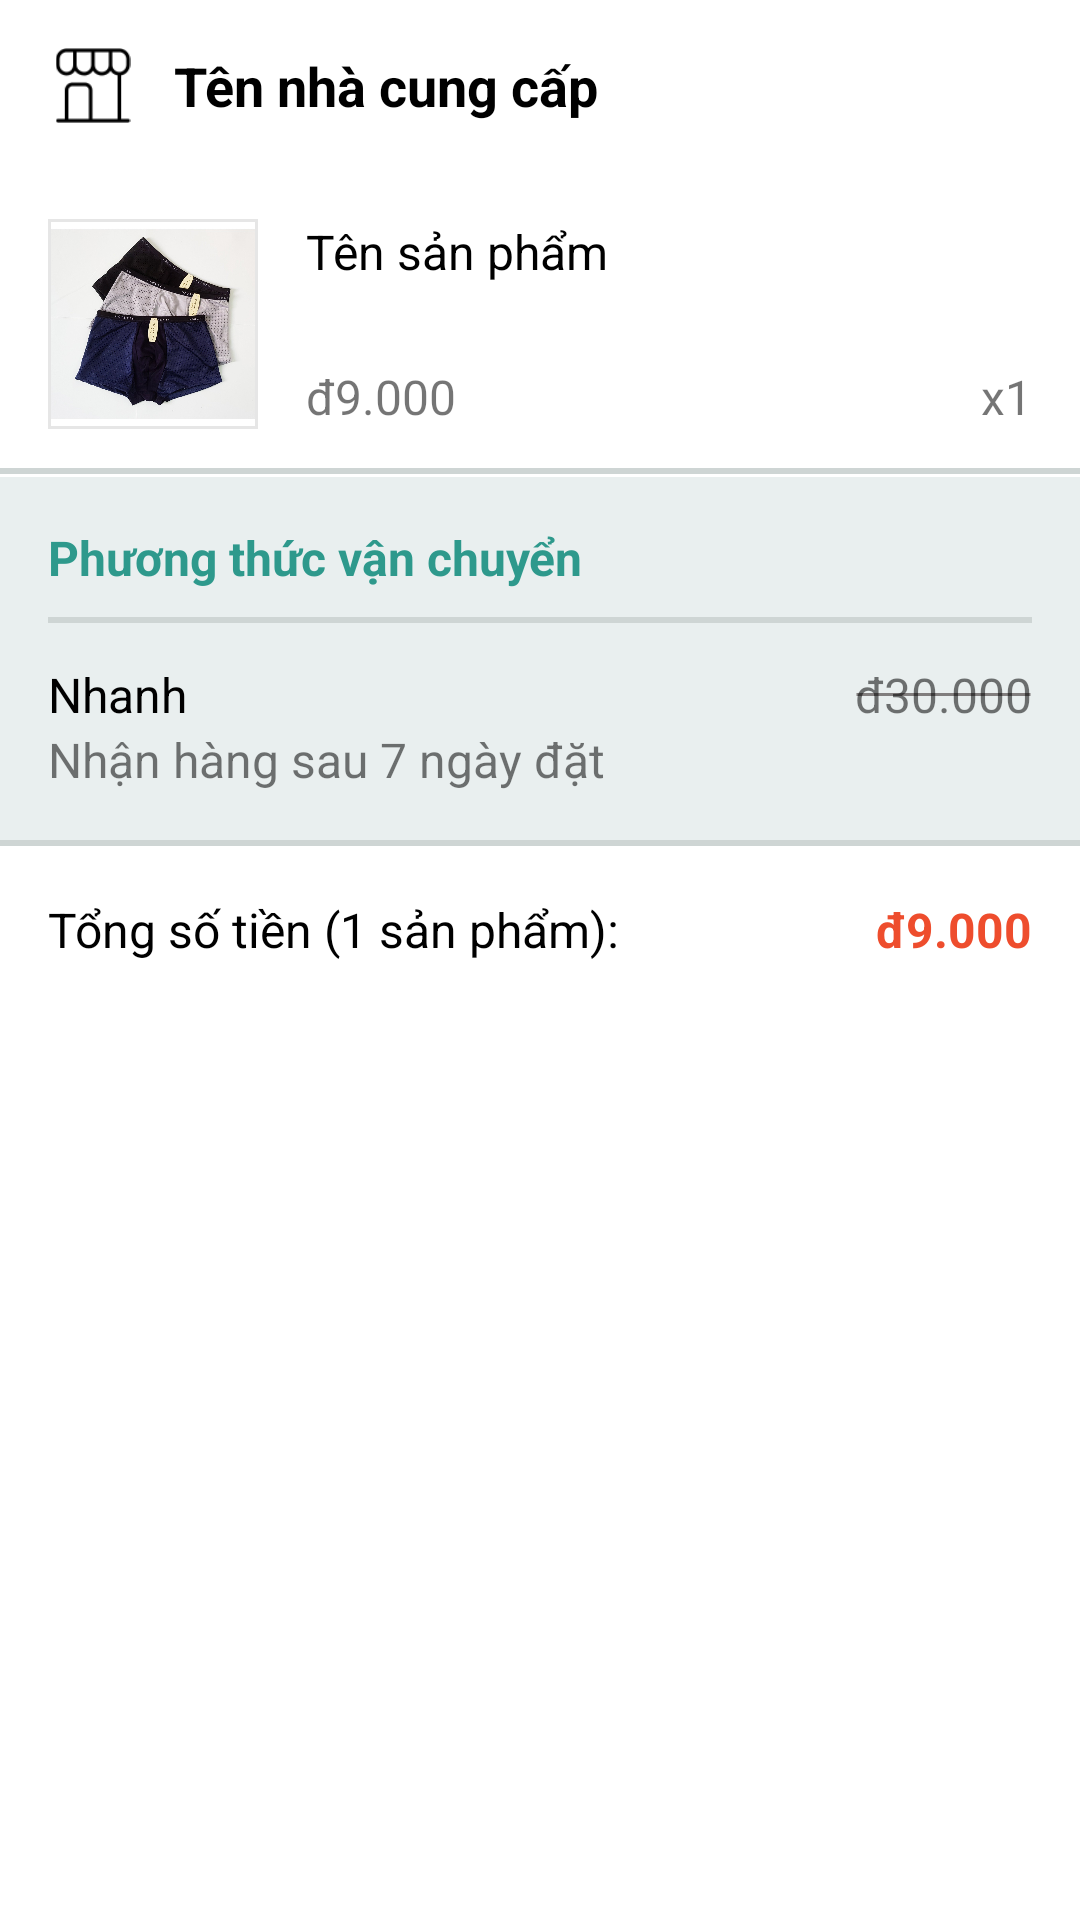

Screen size 1080px x 1920px. Icon name, then its center in pixels as point (x, y):
quan si: point (153, 324)
shop: point (93, 85)
